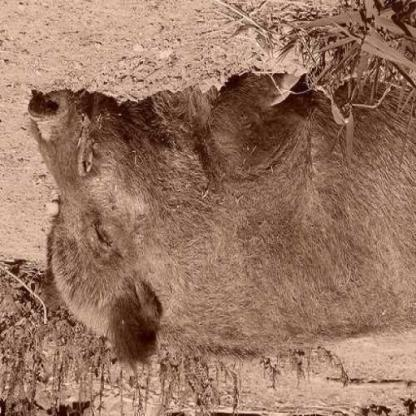boar: (12, 1, 415, 383)
